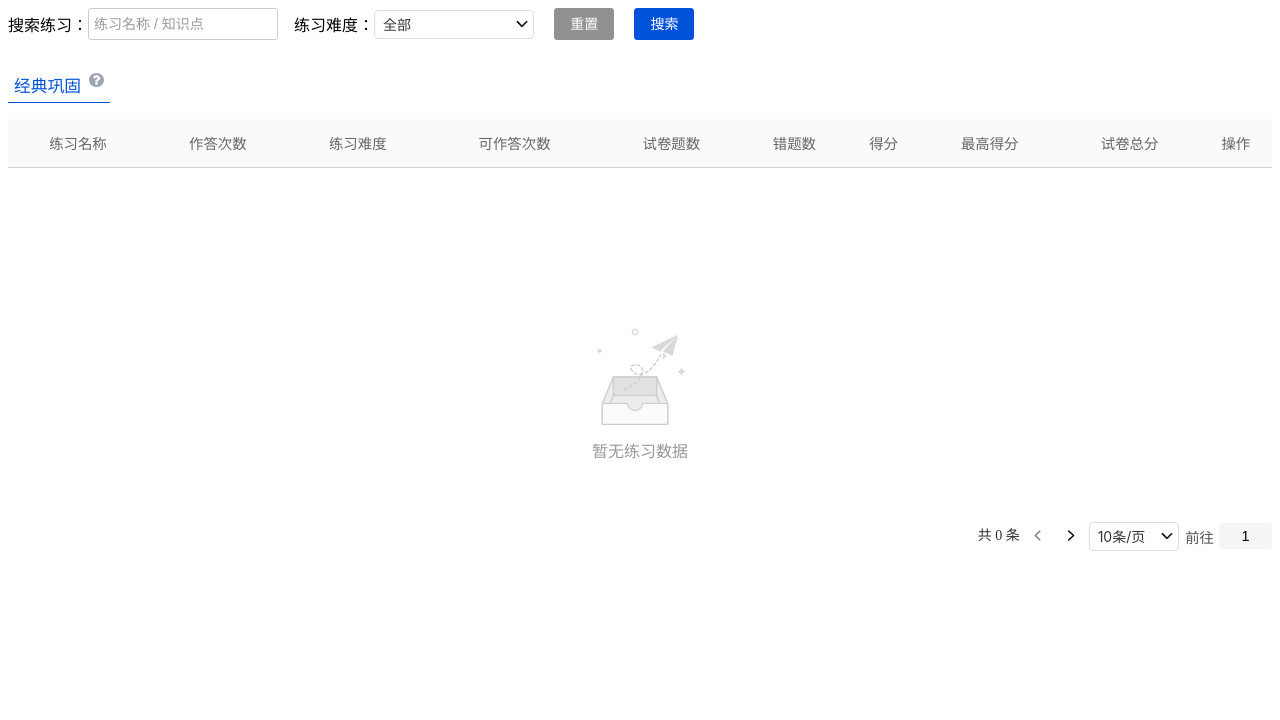
练习列表组件测试 › 重置按钮清空所有筛选条件
The width and height of the screenshot is (1280, 720).
Step 1. Type "测试练习" into the field with placeholder "练习名称 / 知识点" → [183, 24], box [88,8,278,40]
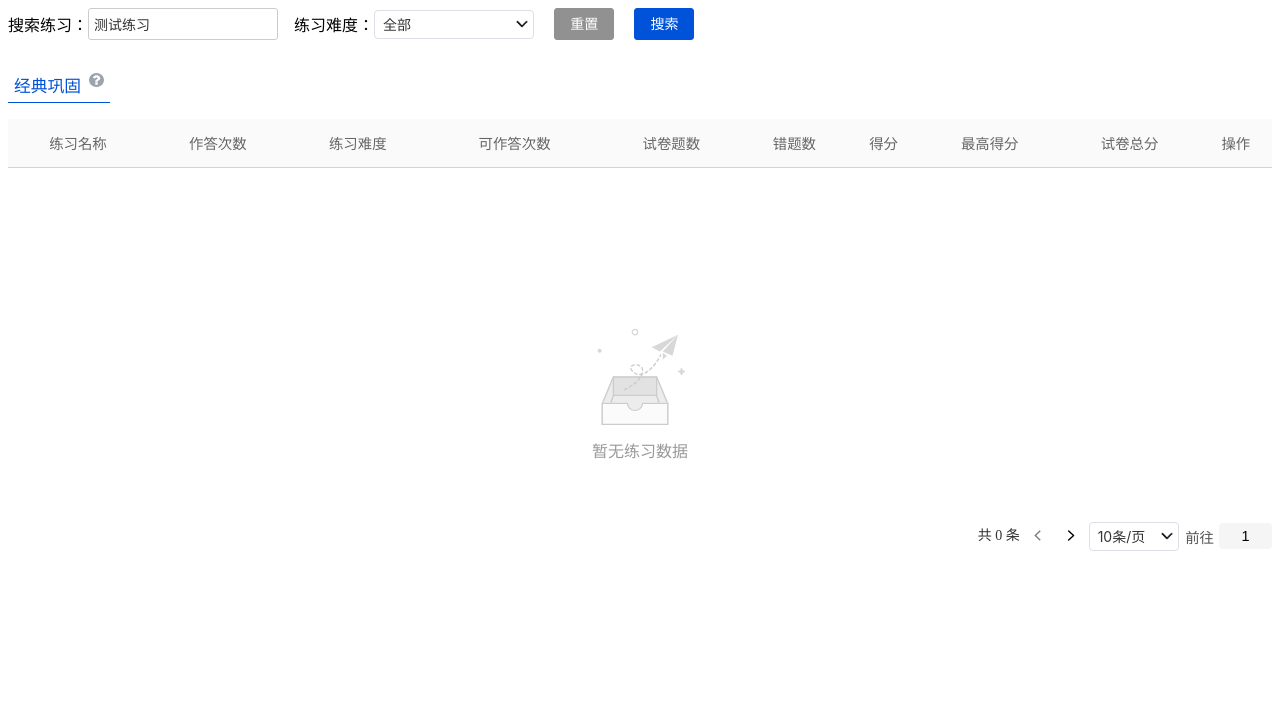
Step 2. Click the button named "Toggle dropdown" next to "练习难度：" → [522, 24], box [514,16,530,32]
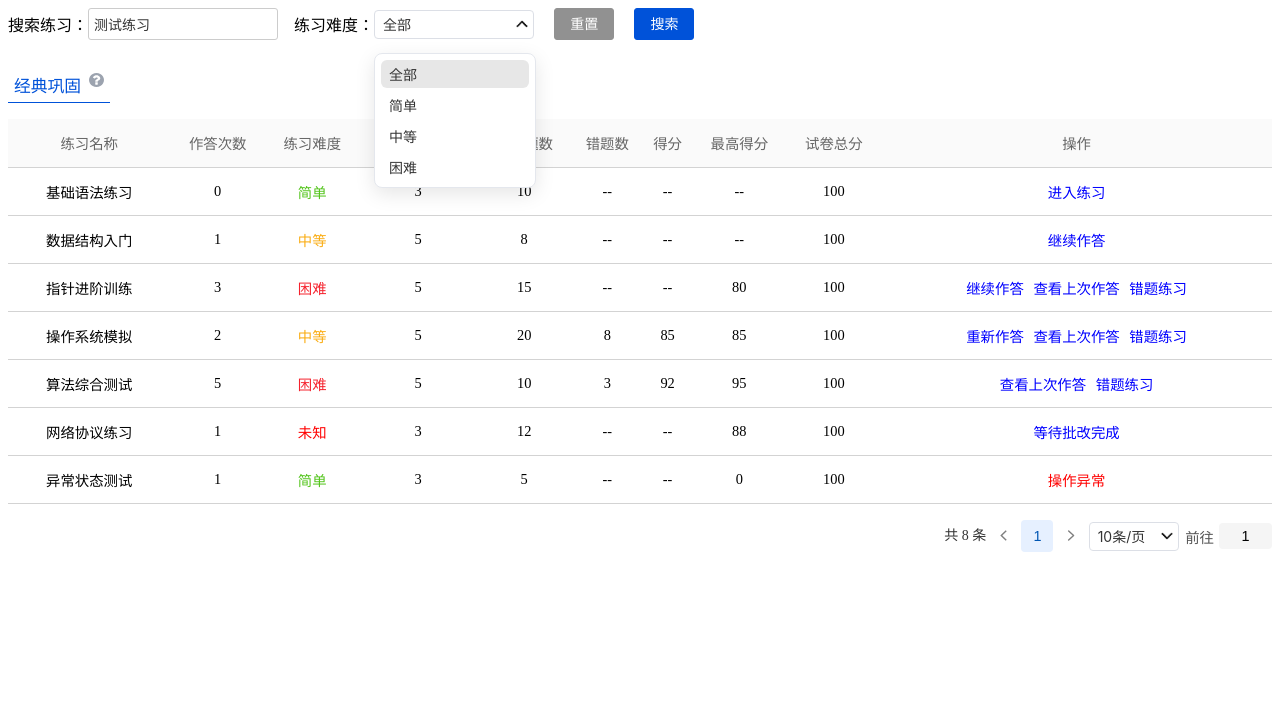
Step 3. Click the button "困难" → [455, 166], box [381,152,529,180]
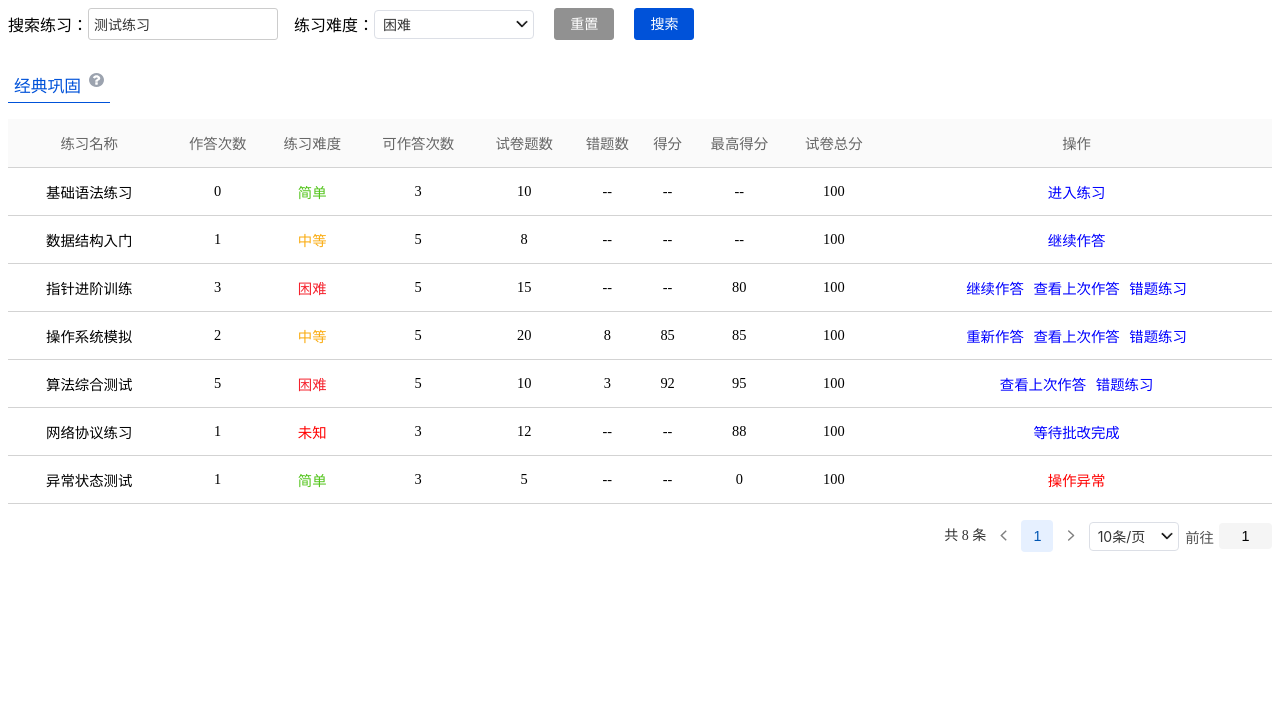
Step 4. Click the button "重置" → [584, 24], box [554,8,614,40]
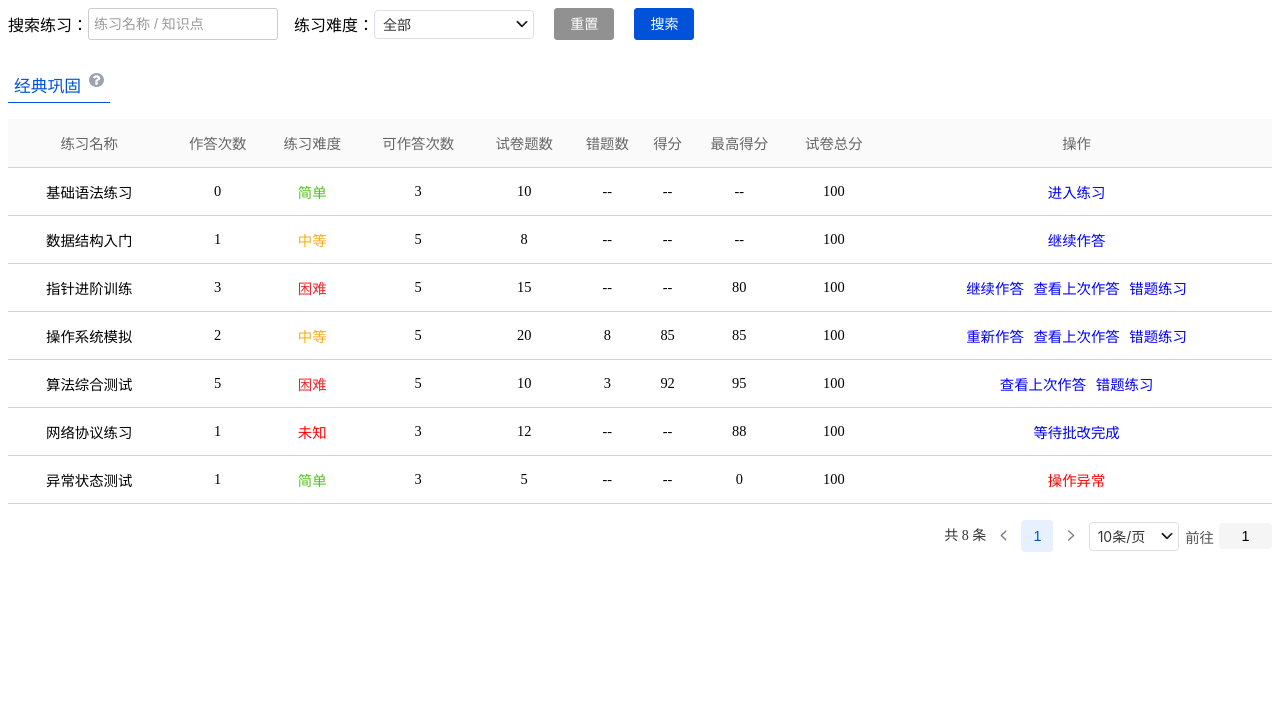
Expected: the field with placeholder "练习名称 / 知识点" is empty, [88,8,278,40]
Expected: the field next to "练习难度：" holds "全部", [374,10,534,38]
